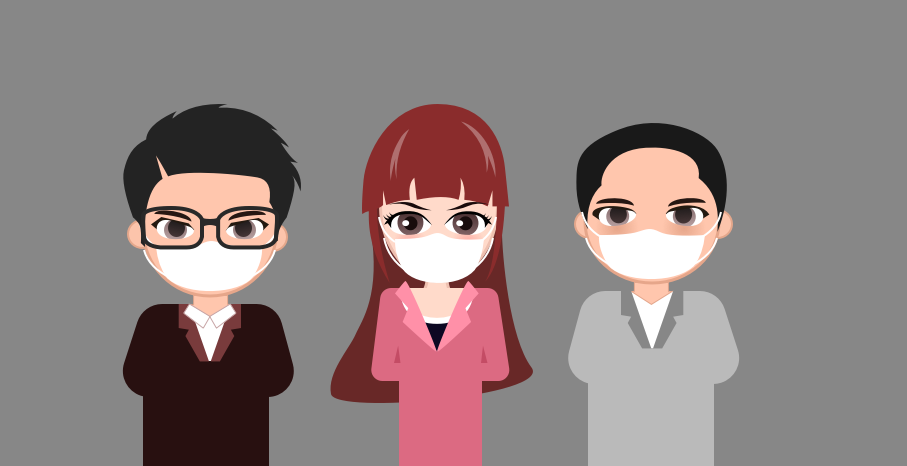mask: (108, 97, 308, 295), (351, 95, 532, 311), (562, 111, 757, 308)
